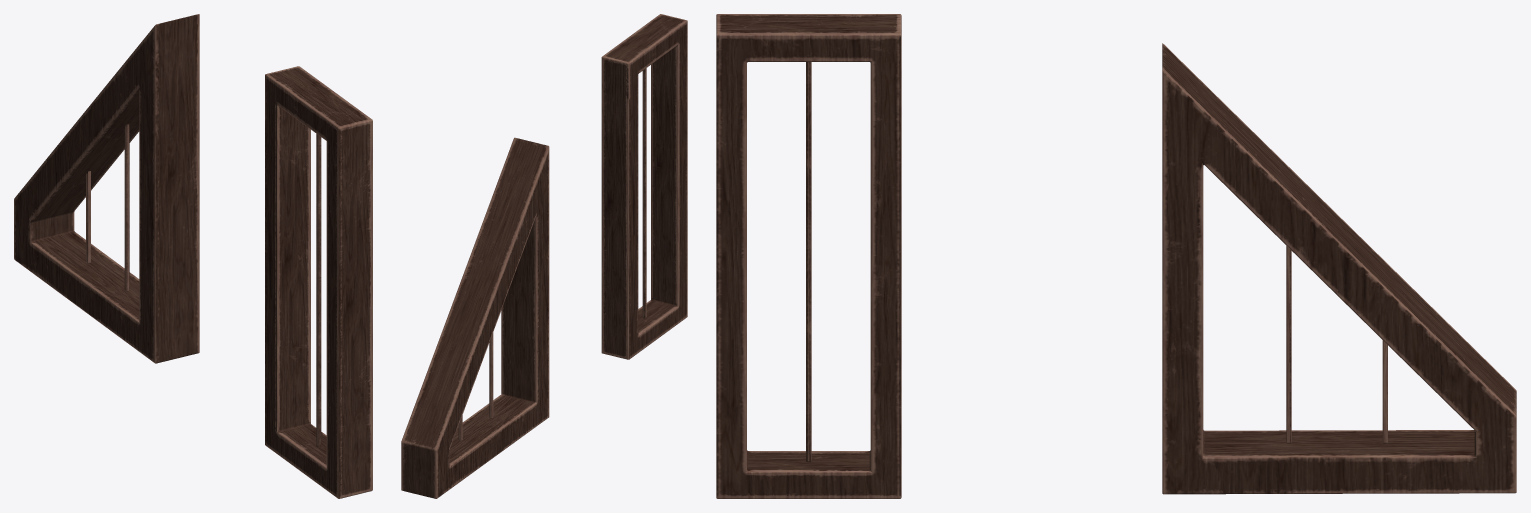
The model's file is Office_Windows.fbx.
The picture shows the model from 3 angles, left to right: view 1: azimuth 30°, elevation 25°; view 2: azimuth 150°, elevation 25°; view 3: azimuth 270°, elevation 25°; orthographic projection. The views are drawn at different scales.
Visible parts, largest first — view 1: Cube.015; view 2: Cube.015; view 3: Cube.015.
Boxes of the visible parts, x1,y1,x2,y2 form: Cube.015: (14,14,372,498); Cube.015: (401,14,687,498); Cube.015: (716,14,1516,498).
Size of the model in its own units: 41.63 by 329 by 514.
